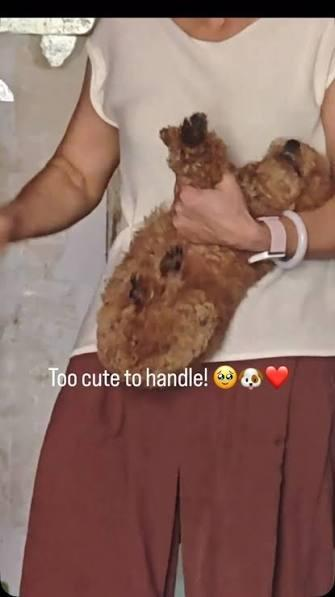adult_dog: (86, 112, 334, 386)
non-dog: (0, 17, 334, 597)
